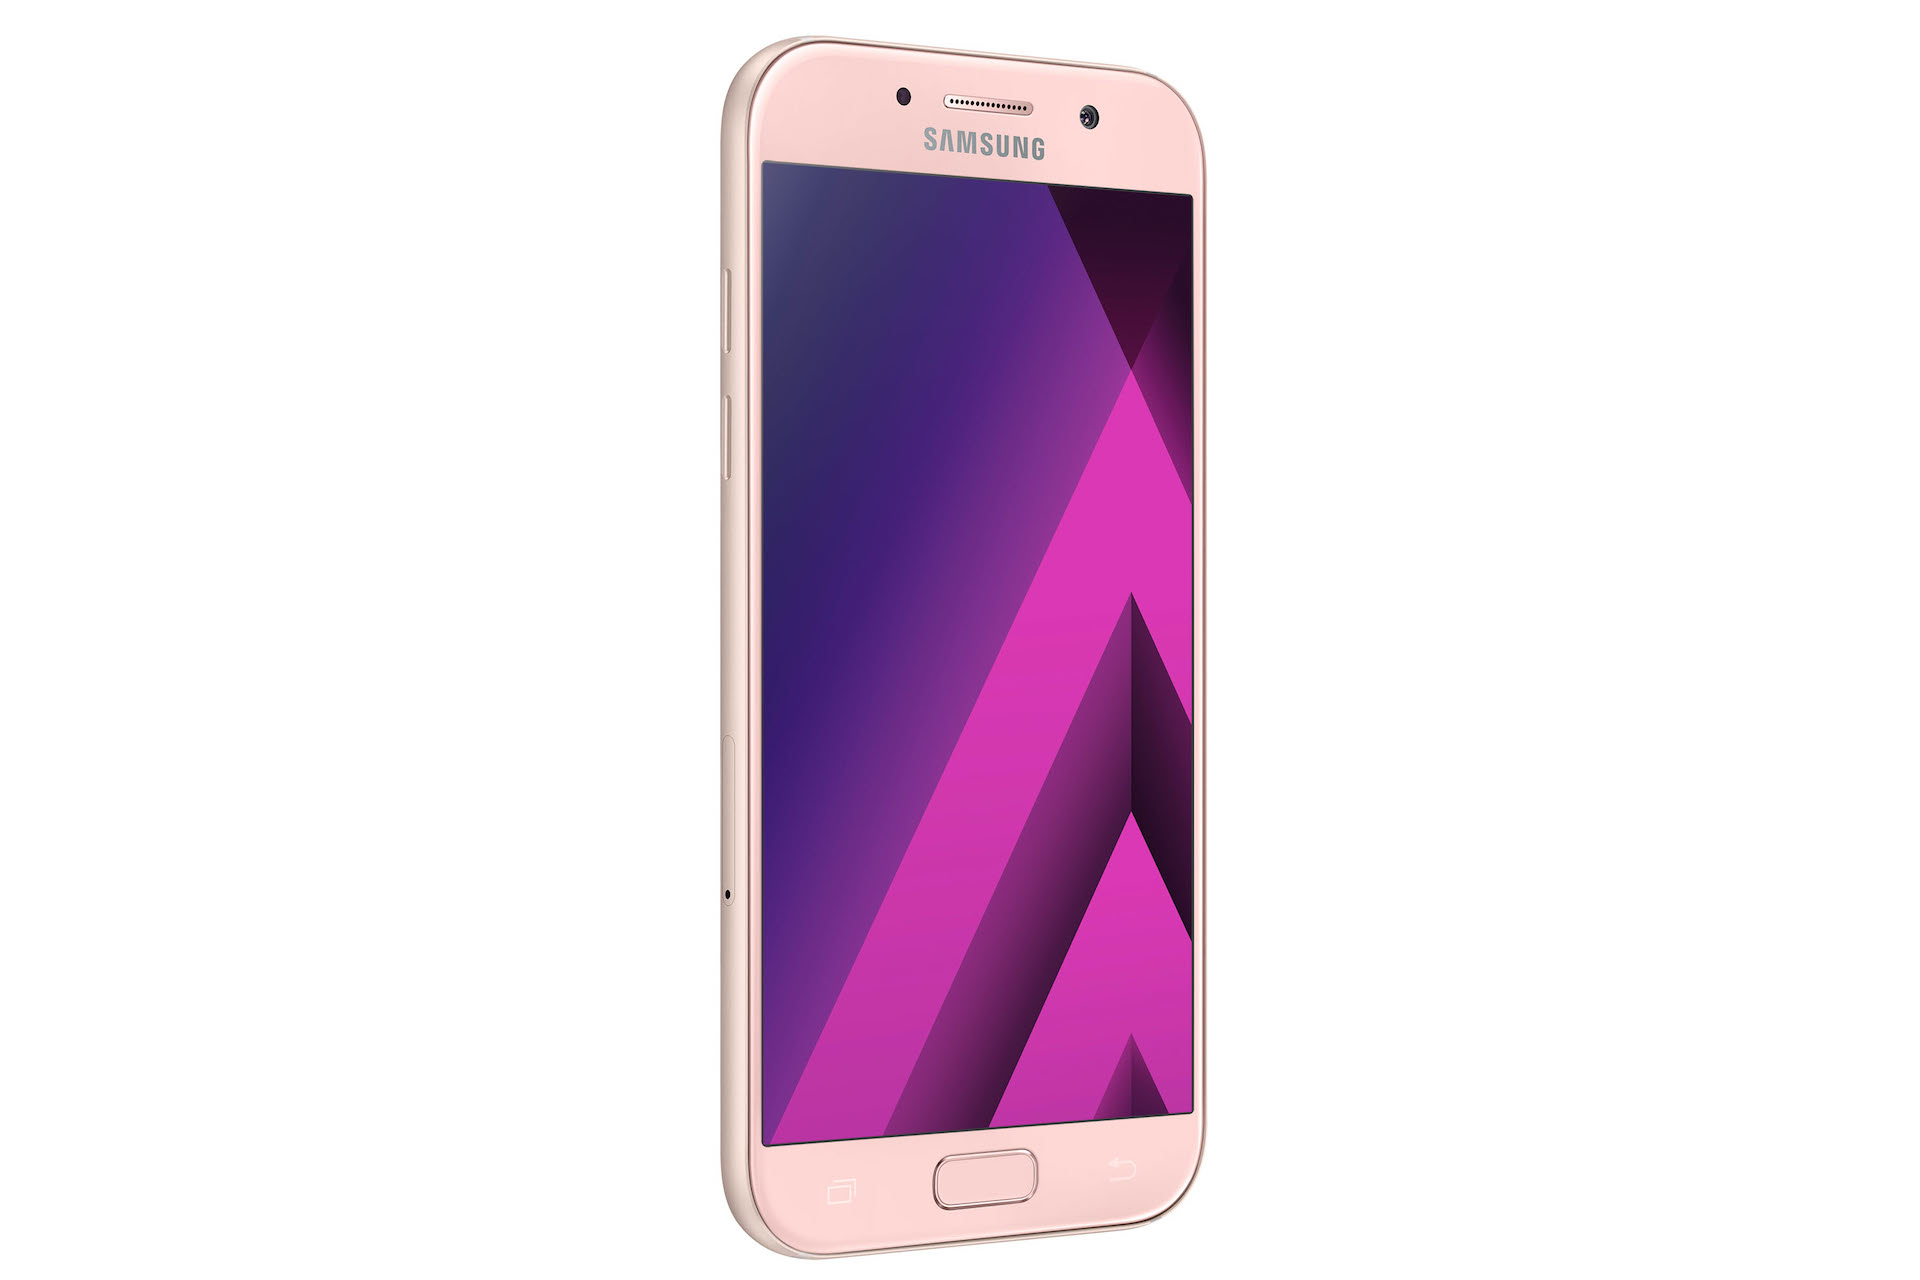smartphone: (714, 31, 1214, 1260)
